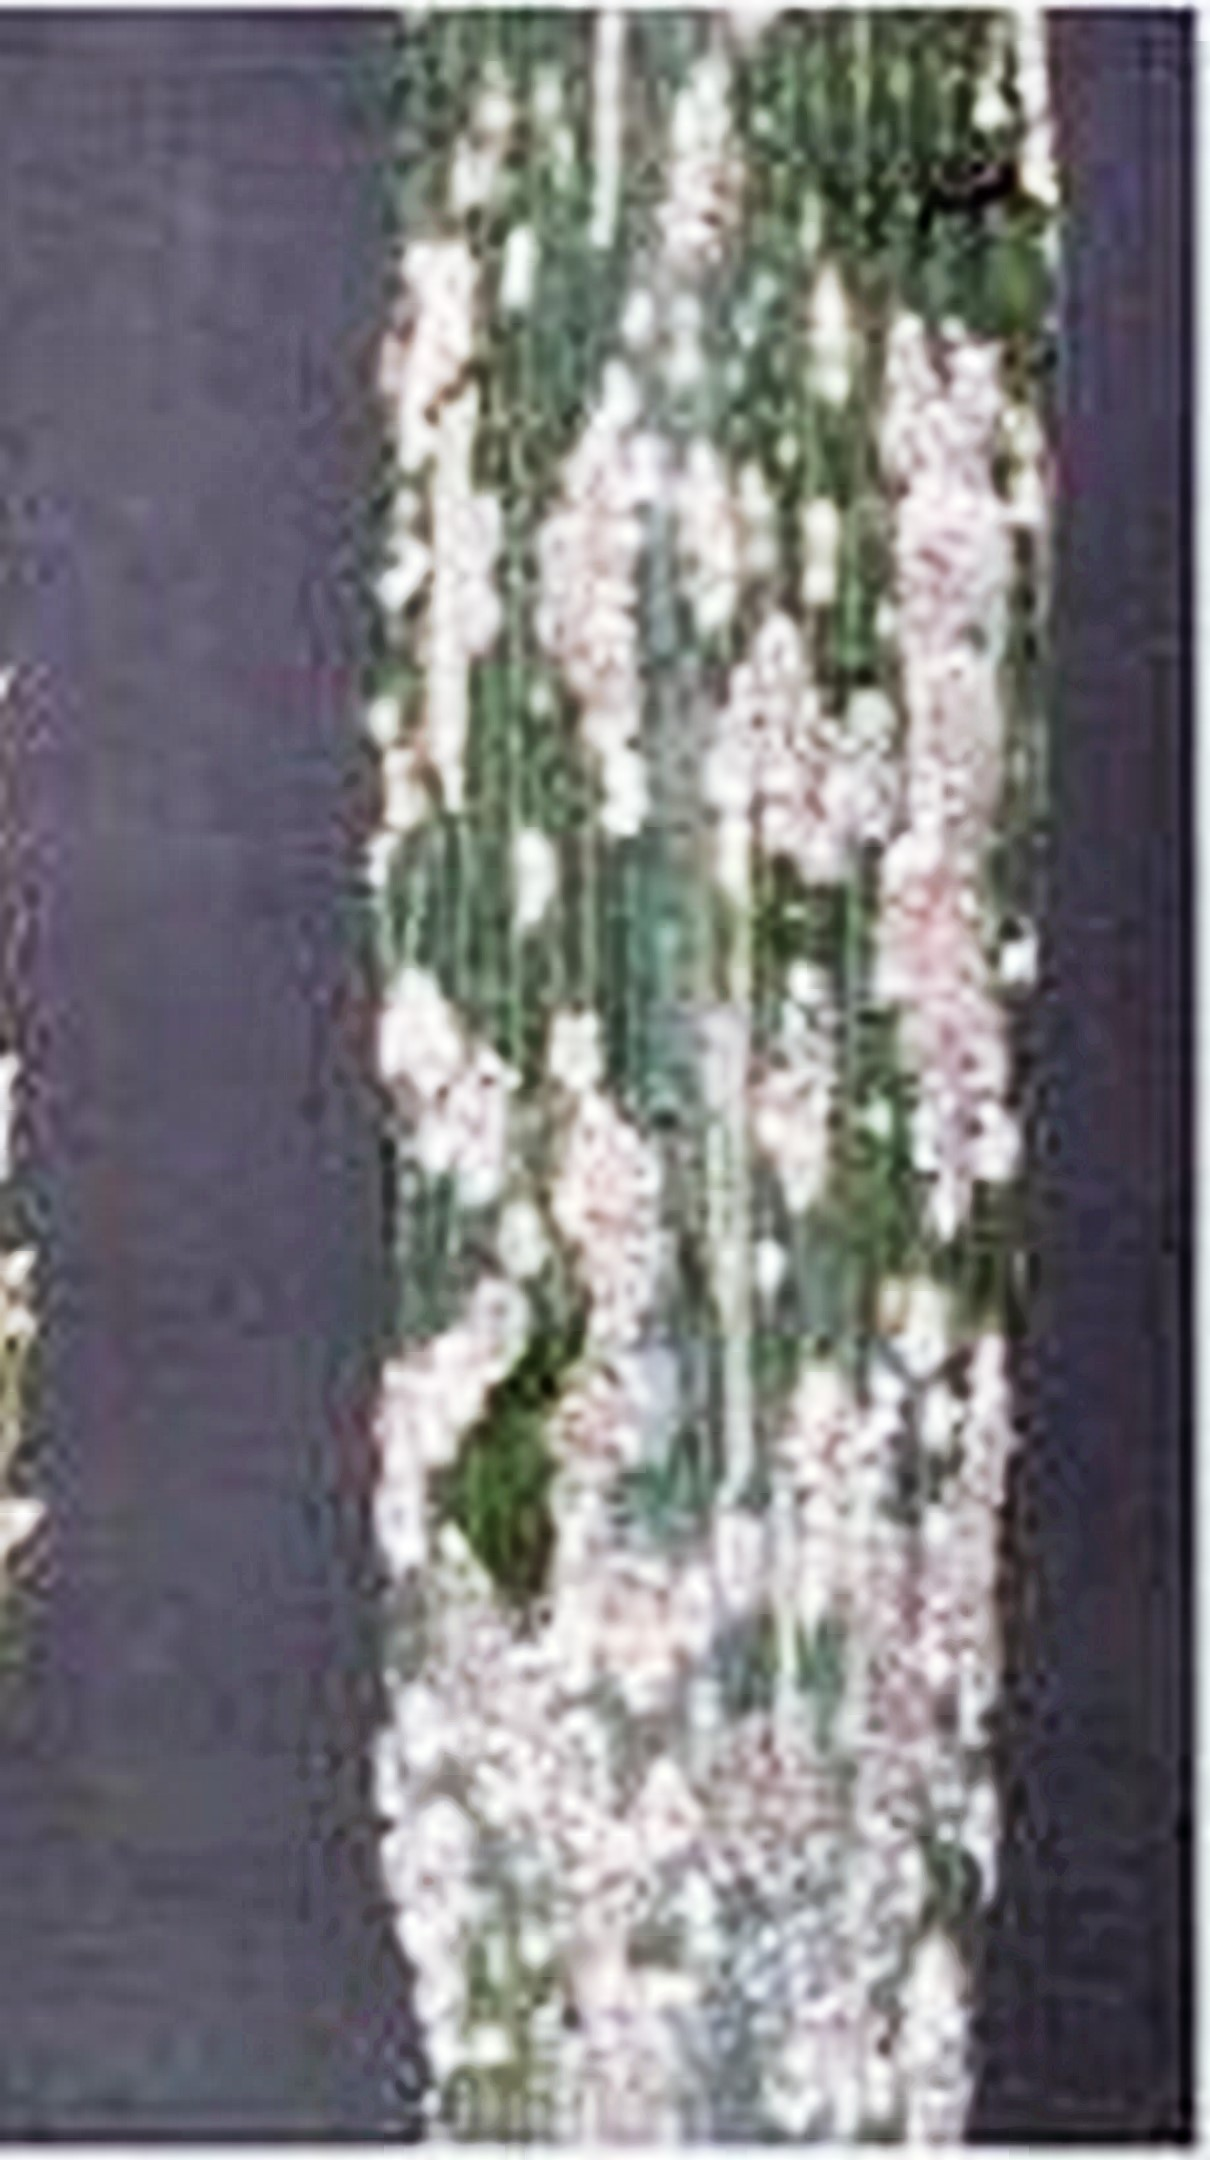Powdery Mildew: (332, 257, 1041, 1694)
